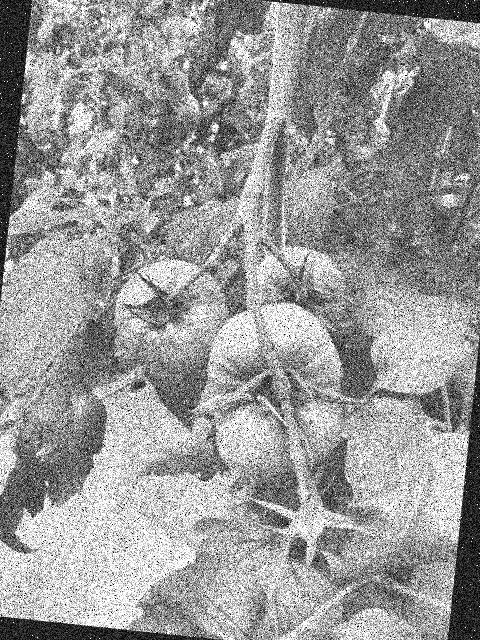b_green: (195, 295, 356, 487), (109, 253, 236, 384), (243, 241, 352, 336)
